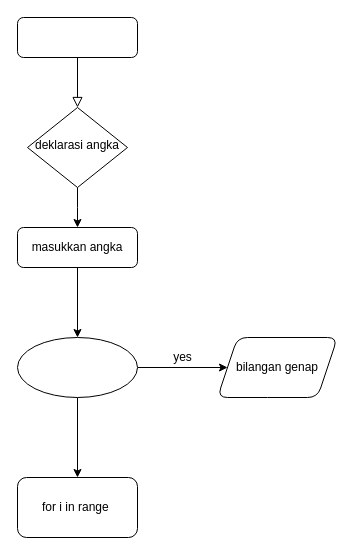
Image size: 355x555. Some labels were removed from this diagram. The box of each missing label's shape, as (x1, y1, x2, y2) in pixels:
if angka == 0 of if angka == 2: (16, 336, 138, 398)
Start: (16, 16, 138, 58)
